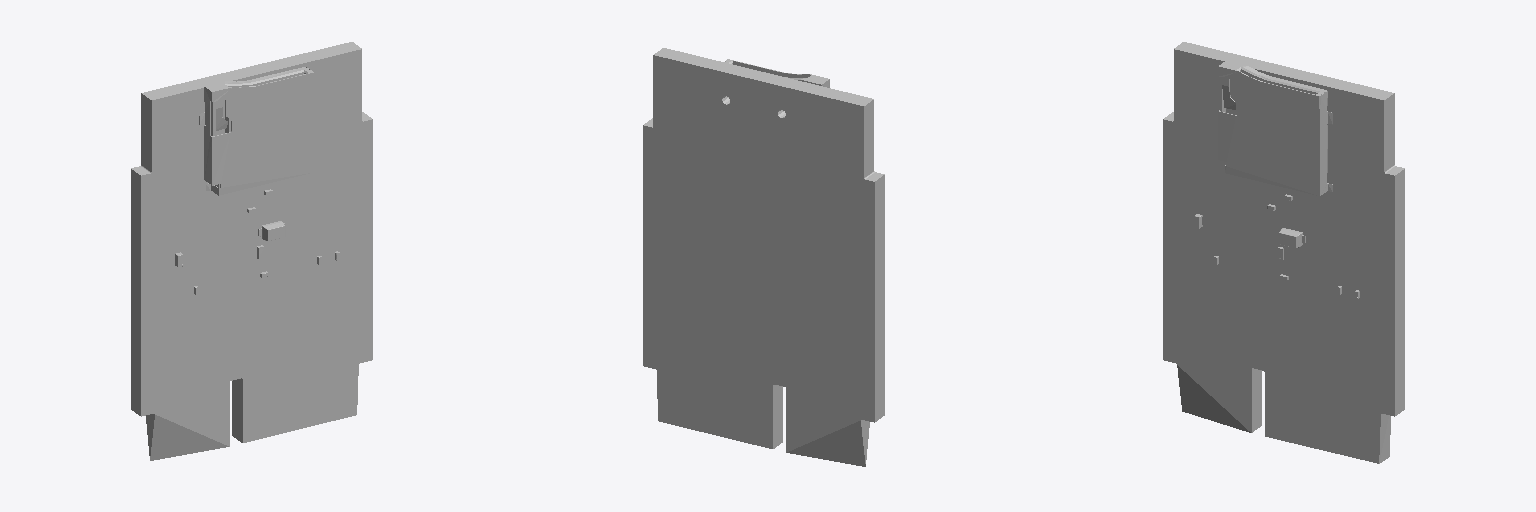
Rendered from PCBA.obj.
3 renders of one model, left to right at view 1: azimuth 30°, elevation 25°; view 2: azimuth 150°, elevation 25°; view 3: azimuth 330°, elevation 25°, orthographic.
Bounding box in the file's own units: 132 × 199 × 18.07.